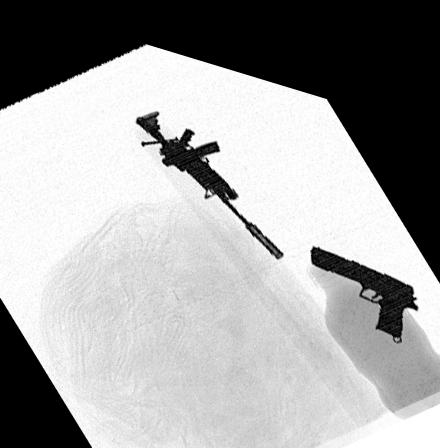Gun: (135, 101, 285, 243), (310, 227, 419, 314)
